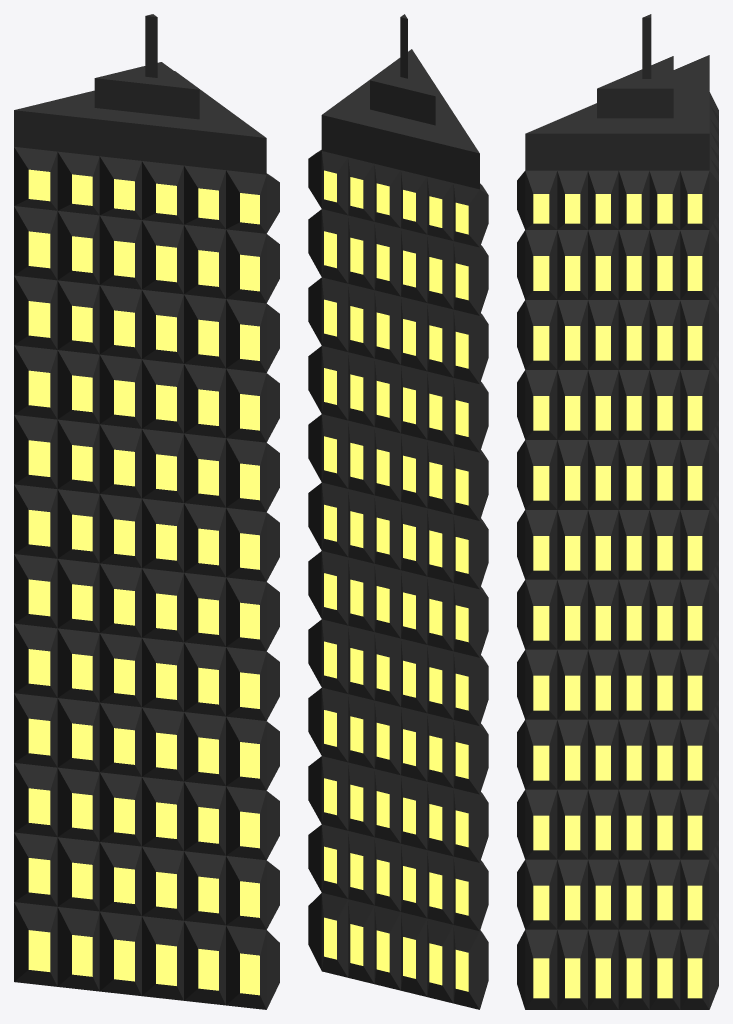
Rendered from Palazzo Triangolare.fbx.
The picture shows the model from 3 angles, left to right: view 1: azimuth 30°, elevation 25°; view 2: azimuth 150°, elevation 25°; view 3: azimuth 270°, elevation 25°; orthographic projection. The views are drawn at different scales.
Parts seen in each view (by area): view 1: Cube.053_Cube.087; view 2: Cube.053_Cube.087; view 3: Cube.053_Cube.087.
Boxes of the visible parts, x1,y1,x2,y2 form: Cube.053_Cube.087: (14, 14, 279, 1009); Cube.053_Cube.087: (308, 14, 488, 1009); Cube.053_Cube.087: (517, 14, 718, 1009).
Bounding box in the file's own units: 692 × 3572 × 675.
